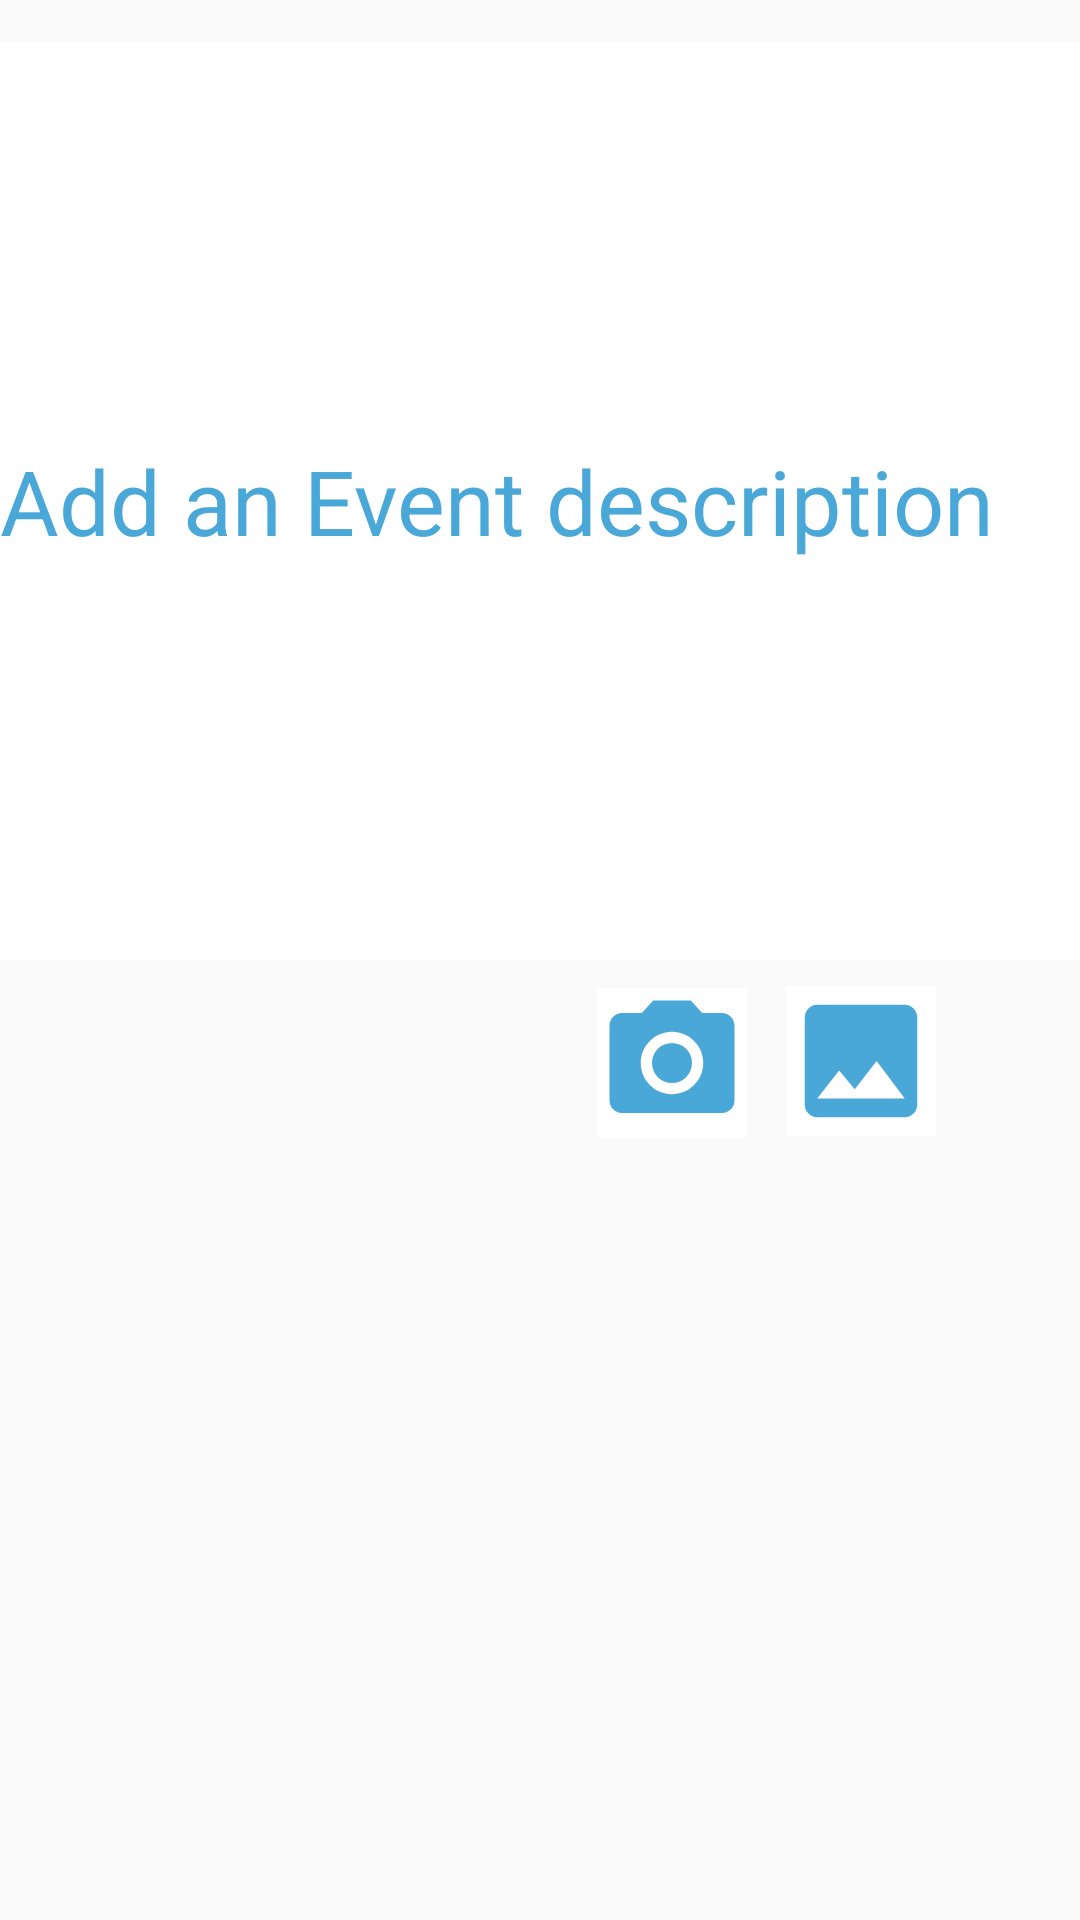

Named icons in this screenshot (1080×1920) and their bounding boxes, (x1, y1, x2, y2):
capture: (609, 1000, 735, 1113)
